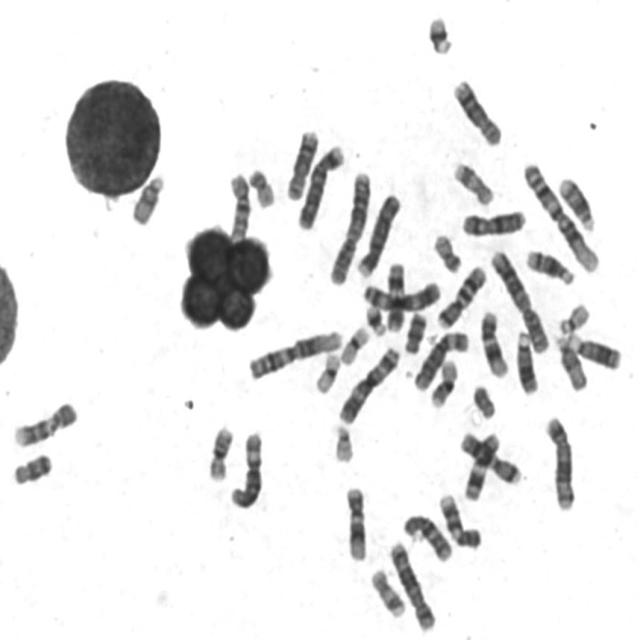A1: (519, 157, 601, 275), (244, 324, 345, 382)
A2: (487, 246, 551, 355), (326, 167, 373, 287)
A3: (335, 342, 402, 426), (360, 276, 442, 313)
B4: (294, 140, 346, 232), (353, 189, 402, 279)
B5: (386, 538, 437, 632), (542, 412, 578, 512)
C10: (400, 510, 454, 564), (224, 168, 252, 244)
C11: (460, 428, 502, 502), (383, 258, 407, 334)
C12: (477, 307, 510, 380), (342, 483, 369, 563)
C6: (411, 327, 470, 393), (226, 426, 265, 511)
C7: (456, 427, 523, 487), (434, 261, 488, 331)
C8: (449, 75, 504, 148), (282, 125, 320, 203)
C9: (10, 396, 80, 449), (435, 490, 483, 550)
D13: (567, 331, 623, 372), (512, 328, 540, 396)
D14: (555, 172, 597, 232), (522, 245, 577, 288)
D15: (553, 331, 590, 394), (128, 169, 166, 227)
E16: (204, 422, 235, 483), (427, 355, 460, 410)
E17: (449, 157, 495, 208), (367, 564, 407, 620)
E18: (9, 448, 54, 487), (401, 309, 428, 355)
F19: (336, 321, 372, 367), (312, 348, 342, 395)
F20: (430, 230, 463, 275), (245, 164, 277, 210)
G21: (424, 11, 454, 57), (361, 300, 389, 337)
G22: (555, 299, 591, 336), (329, 419, 355, 465)
X: (458, 206, 527, 238)
